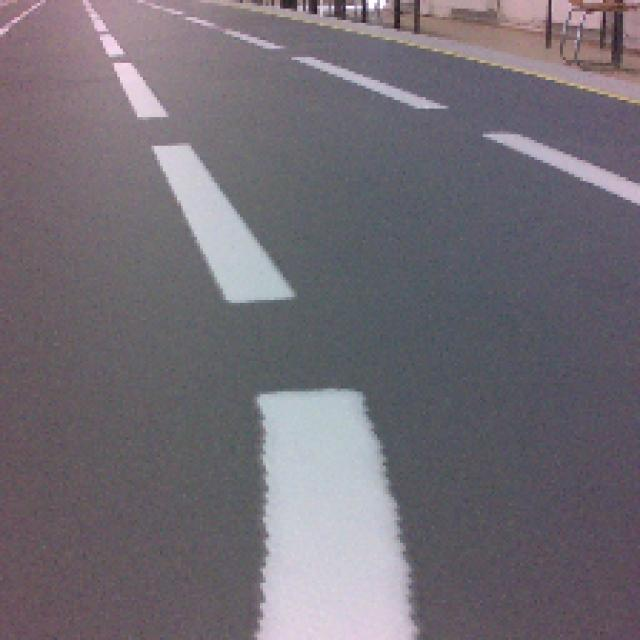Pedestrian crosswalk: (261, 395, 417, 640)
